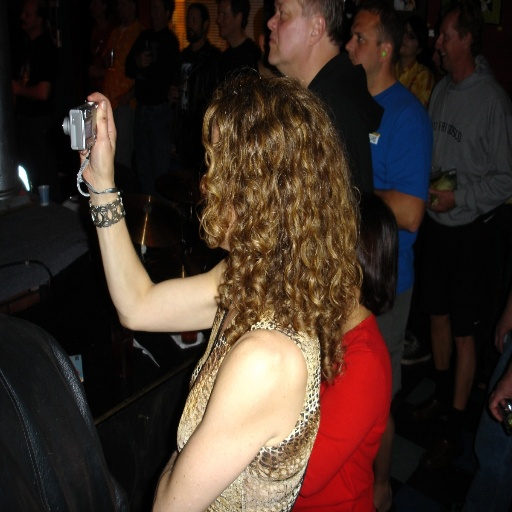hand: (67, 92, 121, 220), (488, 369, 511, 424), (424, 187, 455, 215), (494, 306, 511, 353)
